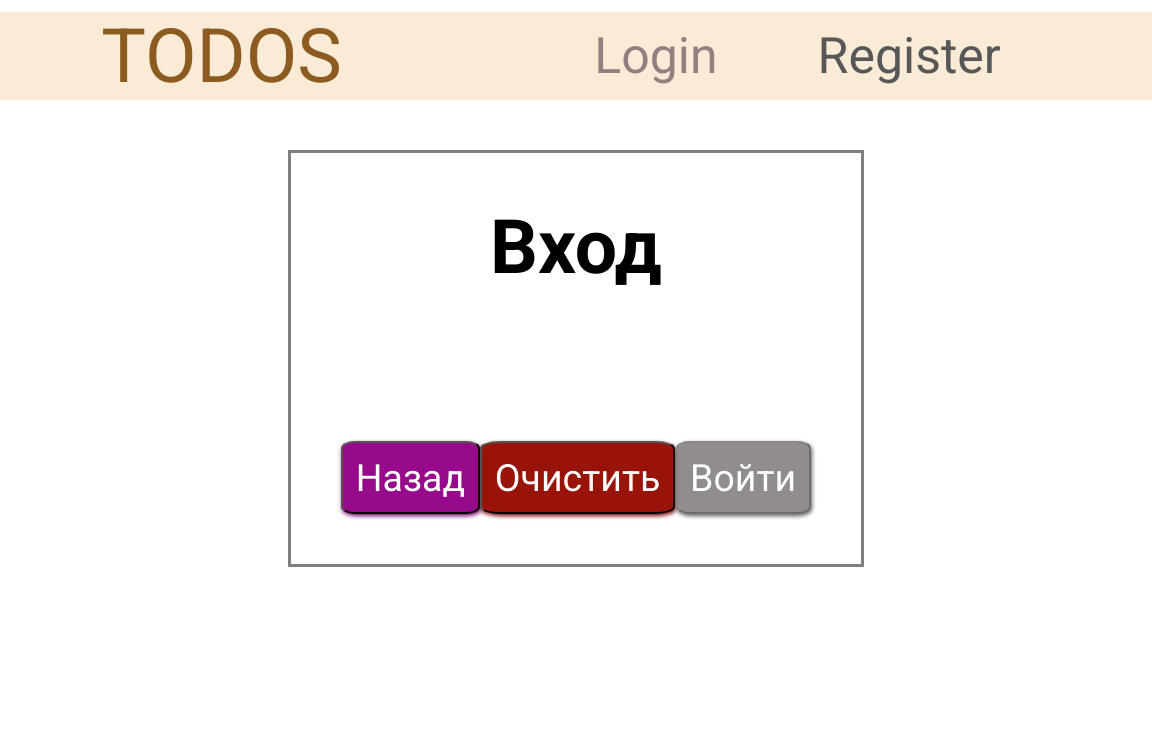
Test case: App testing › routing testing › Register route test
Expected: the text "регистрация" is not shown
Click the link "Register". click: (909, 56)
box: 818,27 -> 1001,85
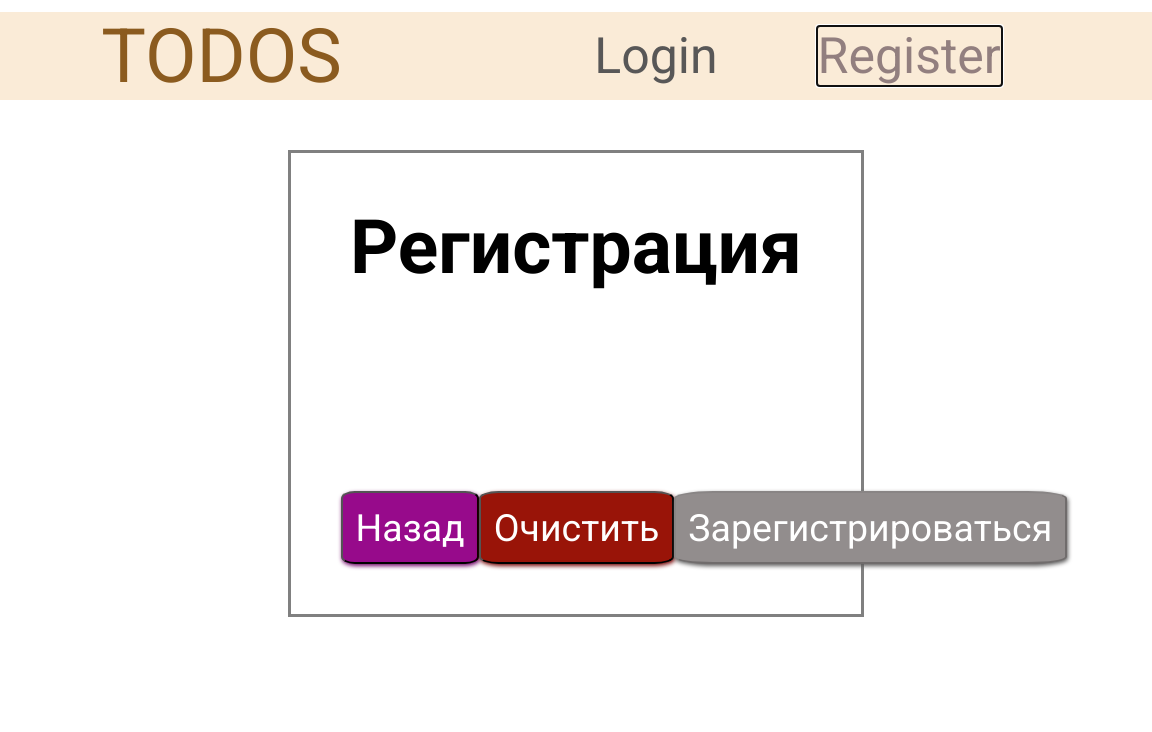
Expected: the heading "Регистрация" is shown, 341,203 -> 811,291
